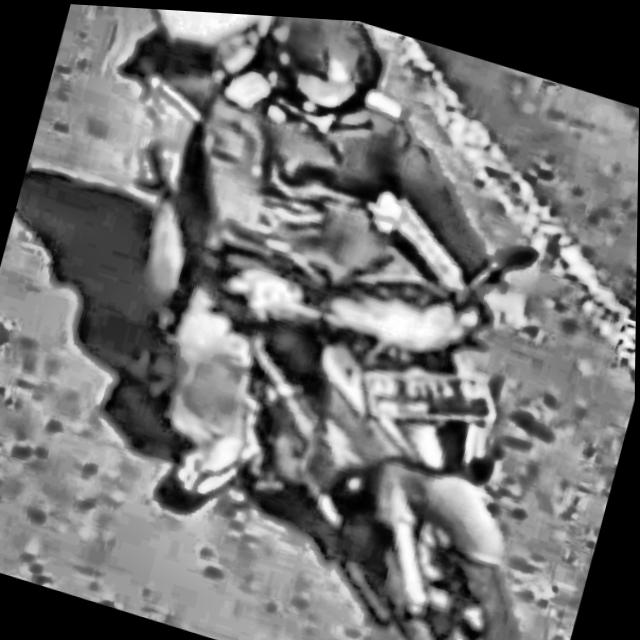motorcycle: (31, 110, 634, 640)
